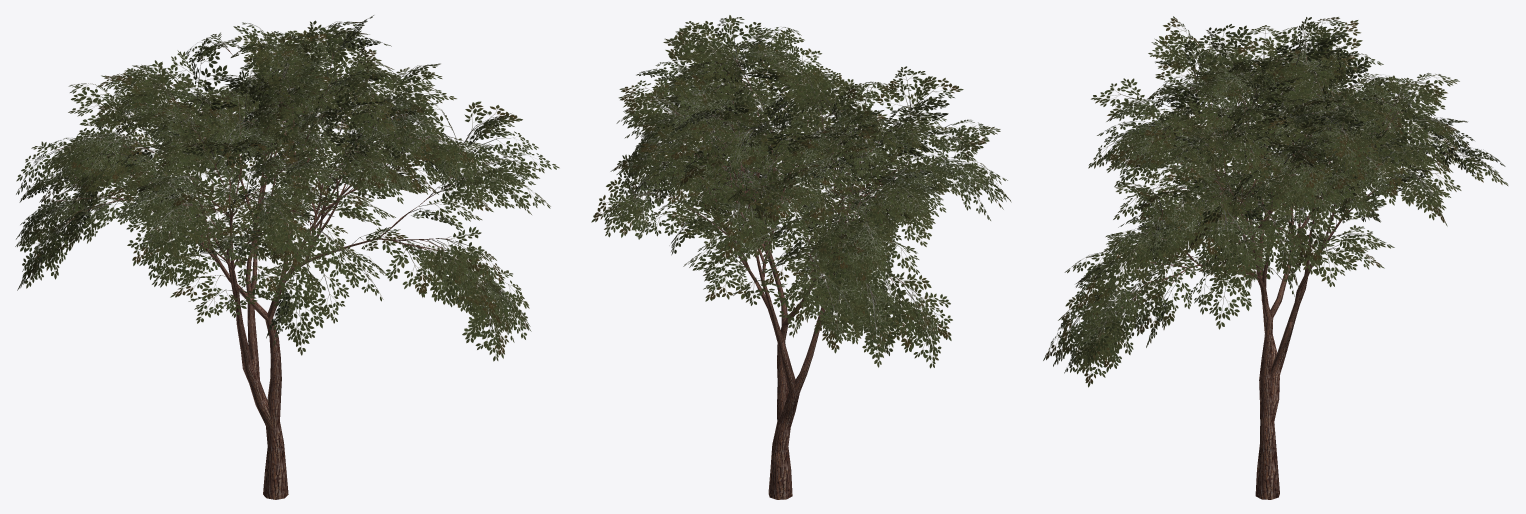
File: arbol1.glb
3 renders of one model, left to right at view 1: azimuth 30°, elevation 25°; view 2: azimuth 150°, elevation 25°; view 3: azimuth 270°, elevation 25°, orthographic. The views are drawn at different scales.
Visible parts, largest first — view 1: polySurface1; view 2: polySurface1; view 3: polySurface1.
Part boxes in pixels (<box>): polySurface1: <box>15,15,559,499</box>; polySurface1: <box>591,15,1011,499</box>; polySurface1: <box>1043,16,1508,499</box>.
Size of the model in its own units: 0.0363 by 0.0382 by 0.0355.
Materials: 2 (2 with a texture image).
